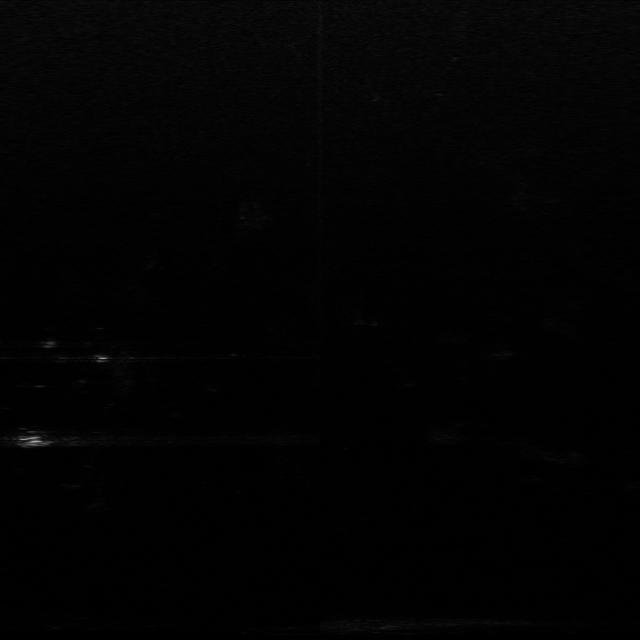rov: (16, 432, 50, 449)
